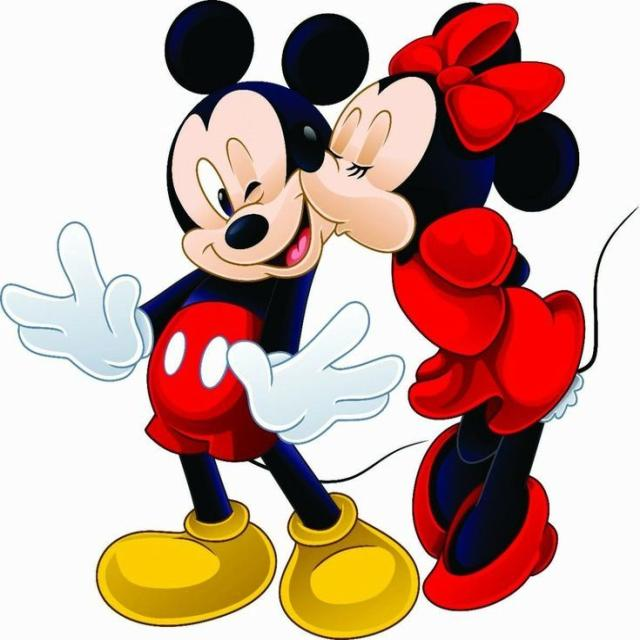mickey: (130, 4, 342, 598)
